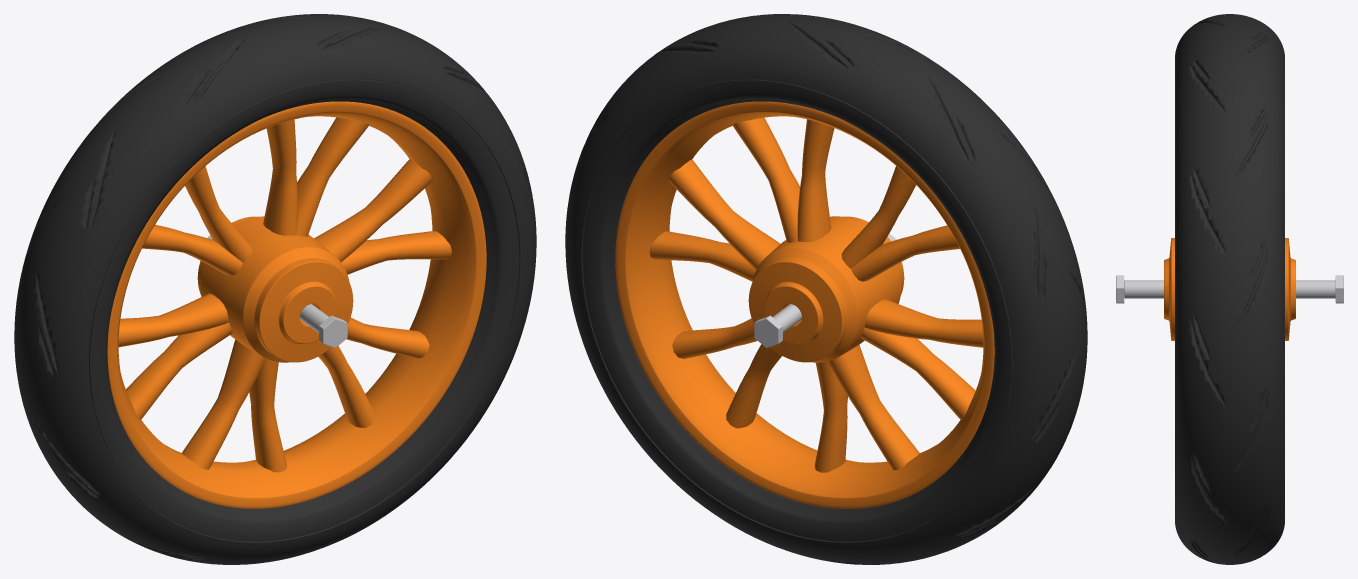
Rendered from bike_superbike__front_wheel.glb.
3 renders of one model, left to right at view 1: azimuth 30°, elevation 25°; view 2: azimuth 150°, elevation 25°; view 3: azimuth 270°, elevation 25°, orthographic. The views are drawn at different scales.
Parts seen in each view (by area): view 1: wheels__front_wheel__tyre, wheels__front_wheel__rim, wheels__front_wheel__cast_spokes, wheels__front_wheel__hub, wheels__front_wheel__axle; view 2: wheels__front_wheel__tyre, wheels__front_wheel__rim, wheels__front_wheel__cast_spokes, wheels__front_wheel__hub, wheels__front_wheel__axle; view 3: wheels__front_wheel__tyre, wheels__front_wheel__axle, wheels__front_wheel__hub.
Boxes of the visible parts, x1=… form: wheels__front_wheel__tyre: x1=14, y1=14, x2=536, y2=564; wheels__front_wheel__rim: x1=107, y1=101, x2=486, y2=508; wheels__front_wheel__cast_spokes: x1=118, y1=117, x2=451, y2=472; wheels__front_wheel__hub: x1=197, y1=216, x2=353, y2=362; wheels__front_wheel__axle: x1=207, y1=235, x2=347, y2=347; wheels__front_wheel__tyre: x1=565, y1=14, x2=1087, y2=564; wheels__front_wheel__rim: x1=615, y1=101, x2=994, y2=508; wheels__front_wheel__cast_spokes: x1=649, y1=117, x2=983, y2=472; wheels__front_wheel__hub: x1=748, y1=216, x2=904, y2=362; wheels__front_wheel__axle: x1=754, y1=233, x2=896, y2=347; wheels__front_wheel__tyre: x1=1175, y1=14, x2=1284, y2=564; wheels__front_wheel__axle: x1=1116, y1=275, x2=1343, y2=303; wheels__front_wheel__hub: x1=1164, y1=238, x2=1295, y2=340.
Bounding box in the file's own units: 60 × 60 × 24.8.
